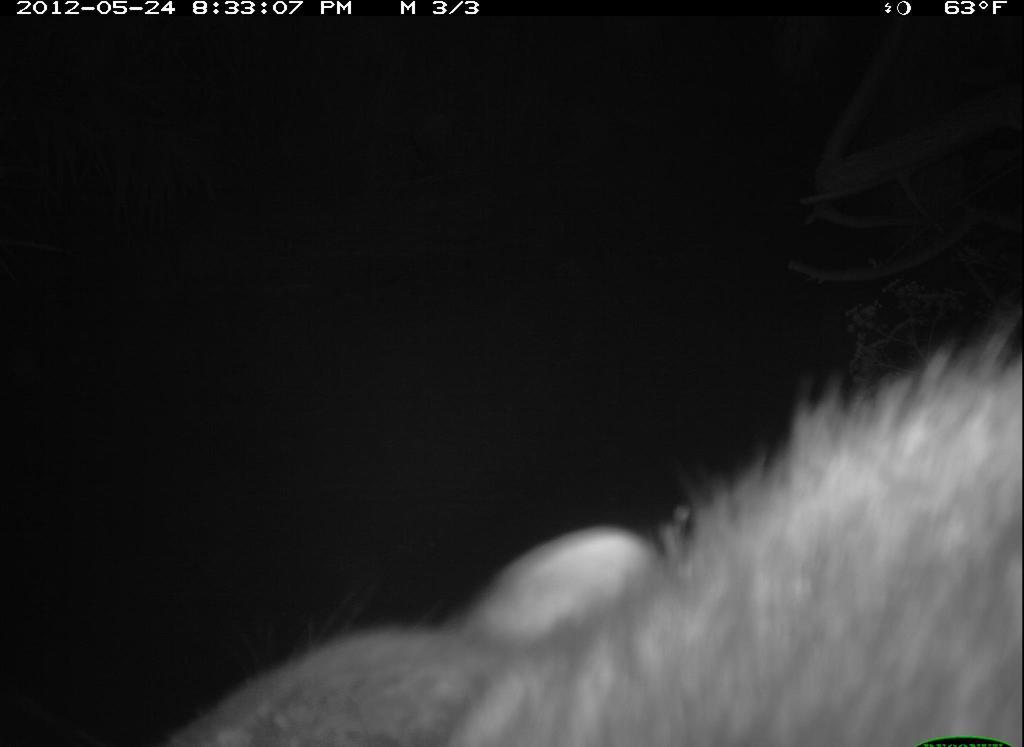raccoon: (132, 295, 1023, 740)
